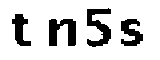5: (82, 4, 114, 49)
n: (45, 16, 78, 52)
s: (116, 15, 146, 51)
t: (5, 9, 33, 49)
